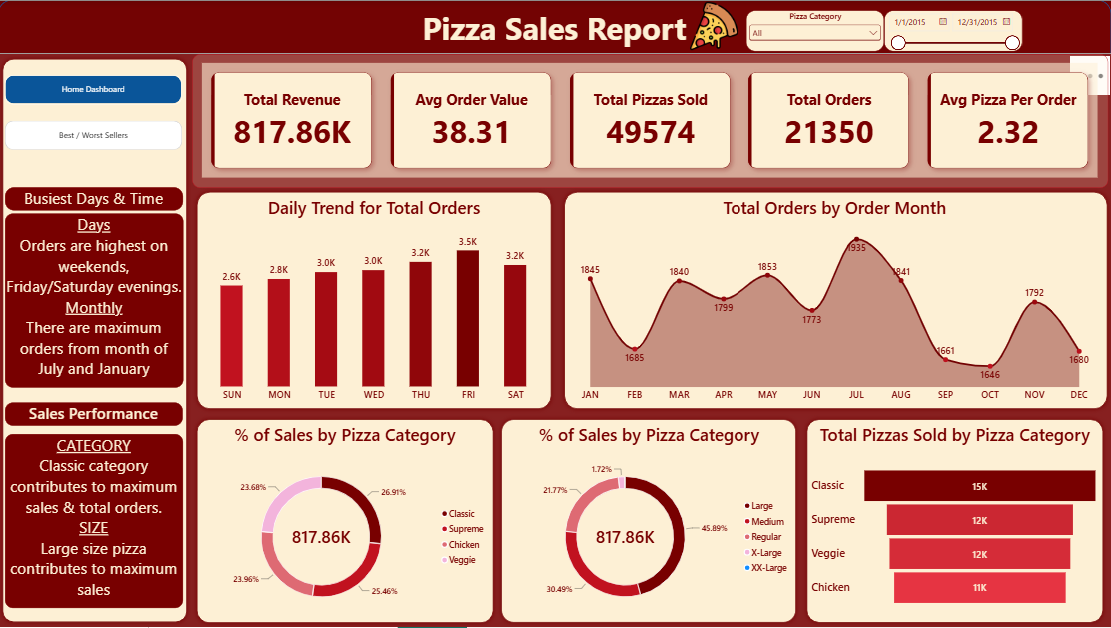

The dashboard page shown, as its layout file describes it:
{"tool":"powerbi","page":{"name":"Home Dashboard","canvas":[1920,1080],"ordinal":0},"visuals":[{"type":"shape","box":[0,0,1920,93.3],"z":0},{"type":"shape","box":[0,93.3,333.3,986.7],"z":1000},{"type":"cardVisual","fields":{"Data":["pizza_sales.Total Revenue","pizza_sales.Avg Order Value","pizza_sales.Total Pizzas Sold","pizza_sales.Total Orders","pizza_sales.Avg Pizza Per Order"]},"box":[333.3,93.3,1580,230],"z":2000},{"type":"textbox","box":[710,13.3,500,80],"z":3000},{"type":"image","box":[1160,4,146.7,83.3],"z":4000},{"type":"shape","box":[333.3,323.3,626.7,390],"z":5000},{"type":"columnChart","title":"Daily Trend for Total Orders","fields":{"Category":["pizza_sales.Order Day"],"Y":["pizza_sales.Total Orders"]},"box":[333.3,323.3,626.7,390],"z":6000},{"type":"shape","box":[966.7,323.3,953.3,390],"z":7000},{"type":"slicer","title":"Pizza Category","fields":{"Values":["pizza_sales.pizza_category"]},"box":[1290,17.5,237.5,70],"z":8000},{"type":"shape","box":[860,713.3,525,366],"z":9000},{"type":"shape","box":[1386.7,713.3,526.7,366],"z":10000},{"type":"shape","box":[333.3,713.3,526.7,366.7],"z":11000},{"type":"donutChart","title":"%  of Sales by Pizza Category","fields":{"Category":["pizza_sales.pizza_category"],"Y":["pizza_sales.Total Revenue"]},"box":[333.3,713.3,526.7,366.7],"z":12000},{"type":"donutChart","title":"%  of Sales by Pizza Category","fields":{"Category":["pizza_sales.pizza_size"],"Y":["pizza_sales.Total Revenue"]},"box":[860,713.3,526.7,366.7],"z":13000},{"type":"funnel","title":"Total Pizzas Sold by Pizza Category","fields":{"Category":["pizza_sales.pizza_category"],"Y":["pizza_sales.Total Pizzas Sold"]},"box":[1386.7,713.3,526.7,366.7],"z":14000},{"type":"textbox","box":[12.5,322.5,306.7,40],"z":15000},{"type":"textbox","box":[12.5,367.5,307.5,300],"z":16000},{"type":"textbox","box":[12.5,692.5,306,40],"z":17000},{"type":"textbox","box":[12.5,747.5,307,300],"z":18000},{"type":"slicer","title":"Pizza Category","fields":{"Values":["pizza_sales.order_date"]},"box":[1530,17.5,237.5,70],"z":19000},{"type":"areaChart","title":"Total Orders by Order Month","fields":{"Category":["pizza_sales.Order Month"],"Y":["pizza_sales.Total Orders"]},"box":[975,322.5,937.5,390],"z":20000},{"type":"pageNavigator","box":[11.8,130.2,305,50],"z":21000},{"type":"pageNavigator","box":[11.8,208.3,305,50],"z":22000}]}

Visuals, with their boxes in screenshot pixels (x1, y1, x2, y2), scaled from the page's 1920x1080 canvas onto the 1111x628 screenshot:
shape: box=[0, 0, 1110, 54]
shape: box=[0, 54, 193, 627]
cardVisual - pizza_sales.Total Revenue x pizza_sales.Avg Order Value: box=[193, 54, 1107, 188]
textbox: box=[411, 8, 700, 54]
image: box=[671, 2, 756, 51]
shape: box=[193, 188, 556, 415]
"Daily Trend for Total Orders" columnChart: box=[193, 188, 556, 415]
shape: box=[559, 188, 1110, 415]
"Pizza Category" slicer: box=[746, 10, 884, 51]
shape: box=[498, 415, 801, 627]
shape: box=[802, 415, 1107, 627]
shape: box=[193, 415, 498, 627]
"%  of Sales by Pizza Category" donutChart: box=[193, 415, 498, 627]
"%  of Sales by Pizza Category" donutChart: box=[498, 415, 802, 627]
"Total Pizzas Sold by Pizza Category" funnel: box=[802, 415, 1107, 627]
textbox: box=[7, 188, 185, 211]
textbox: box=[7, 214, 185, 388]
textbox: box=[7, 403, 184, 426]
textbox: box=[7, 435, 185, 609]
"Pizza Category" slicer: box=[885, 10, 1023, 51]
"Total Orders by Order Month" areaChart: box=[564, 188, 1107, 414]
pageNavigator: box=[7, 76, 183, 105]
pageNavigator: box=[7, 121, 183, 150]
